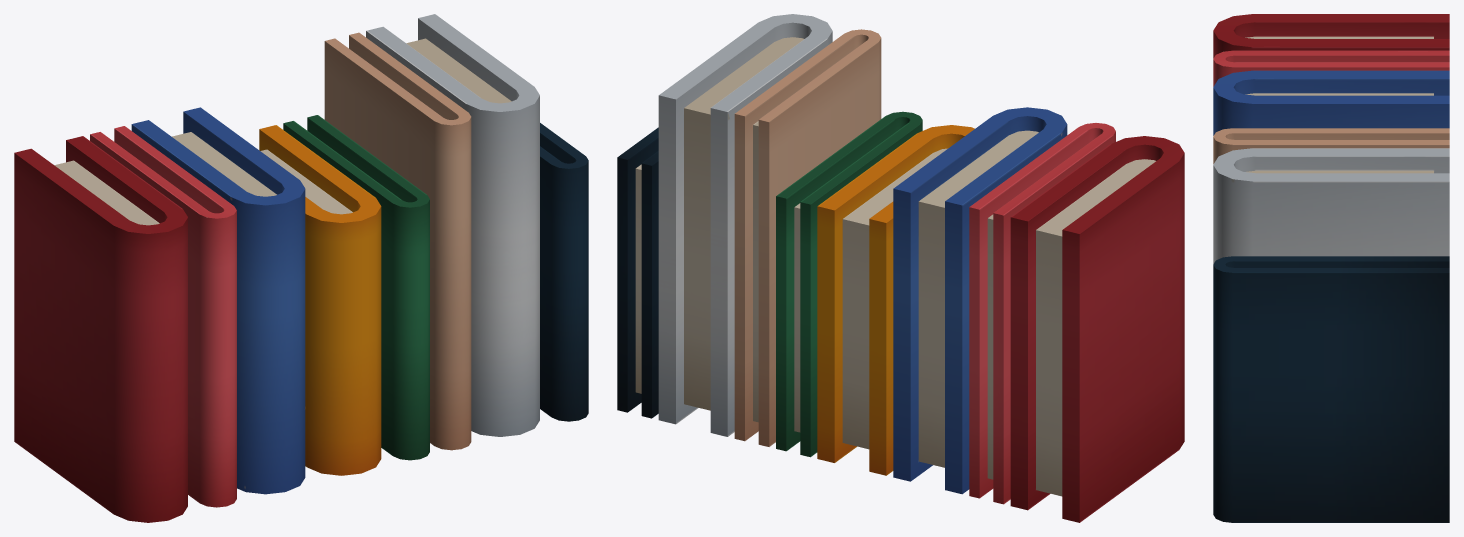
Rendered from Books.fbx.
3 views of the same model, side by side, from view 1: azimuth 30°, elevation 25°; view 2: azimuth 150°, elevation 25°; view 3: azimuth 270°, elevation 25° (orthographic).
Visible parts, largest first — view 1: Books; view 2: Books; view 3: Books.
Part boxes in pixels (bbox=[...]): Books: bbox=[14, 14, 588, 522]; Books: bbox=[617, 14, 1184, 522]; Books: bbox=[1213, 14, 1449, 522].
Size of the model in its own units: 134 by 90 by 60.
